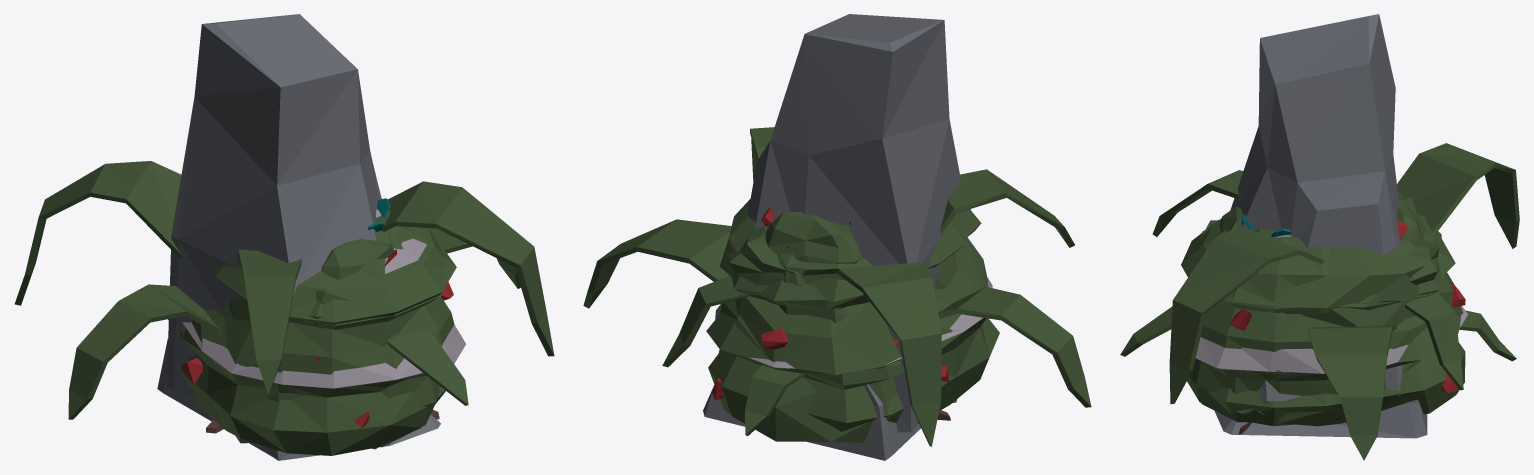
The model's file is nature.glb.
3 renders of one model, left to right at view 1: azimuth 30°, elevation 25°; view 2: azimuth 150°, elevation 25°; view 3: azimuth 270°, elevation 25°, orthographic. The views are drawn at different scales.
Visible parts, largest first — view 1: rock1, bush1, fern, bushsnow, bush2, broad1, rocksnow; view 2: rock1, fern, bush2, bush1, broad1, rocksnow, bushsnow; view 3: rock1, fern, bush2, bush1, bushsnow, rocksnow, broad1.
Boxes of the visible parts, x1,y1,x2,y2 form: rock1: [167, 14, 398, 439]; bush1: [167, 210, 454, 455]; fern: [14, 161, 554, 419]; bushsnow: [182, 209, 465, 388]; bush2: [181, 213, 456, 447]; broad1: [309, 233, 393, 325]; rocksnow: [157, 338, 440, 460]; rock1: [719, 14, 960, 432]; fern: [583, 127, 1091, 446]; bush2: [706, 199, 973, 442]; bush1: [720, 209, 999, 431]; broad1: [729, 209, 970, 285]; rocksnow: [703, 384, 920, 460]; bushsnow: [715, 277, 992, 368]; rock1: [1230, 14, 1402, 413]; fern: [1120, 143, 1519, 460]; bush2: [1192, 221, 1465, 426]; bush1: [1181, 214, 1459, 426]; bushsnow: [1195, 231, 1467, 381]; rocksnow: [1214, 399, 1427, 438]; broad1: [1200, 192, 1439, 284].
Bounding box in the file's own units: 2.37 × 1.81 × 1.86.
